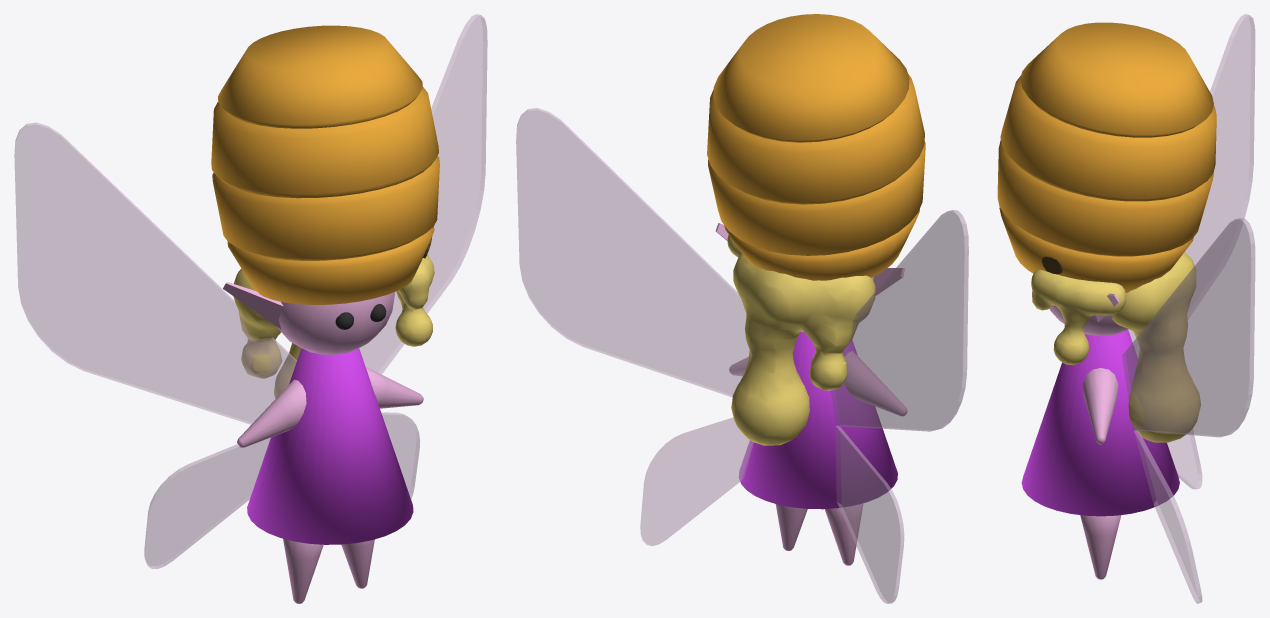
The model's file is fairyAnxiety.fbx.
3 renders of one model, left to right at view 1: azimuth 30°, elevation 25°; view 2: azimuth 150°, elevation 25°; view 3: azimuth 270°, elevation 25°, orthographic. The views are drawn at different scales.
Parts seen in each view (by area): view 1: Fairy - Anxiety; view 2: Fairy - Anxiety; view 3: Fairy - Anxiety.
Part boxes in pixels (box(x1,y1,x2,y2)): Fairy - Anxiety: box(14, 14, 487, 603); Fairy - Anxiety: box(516, 14, 968, 603); Fairy - Anxiety: box(997, 14, 1255, 603).
Size of the model in its own units: 45.34 by 22.57 by 50.12.
